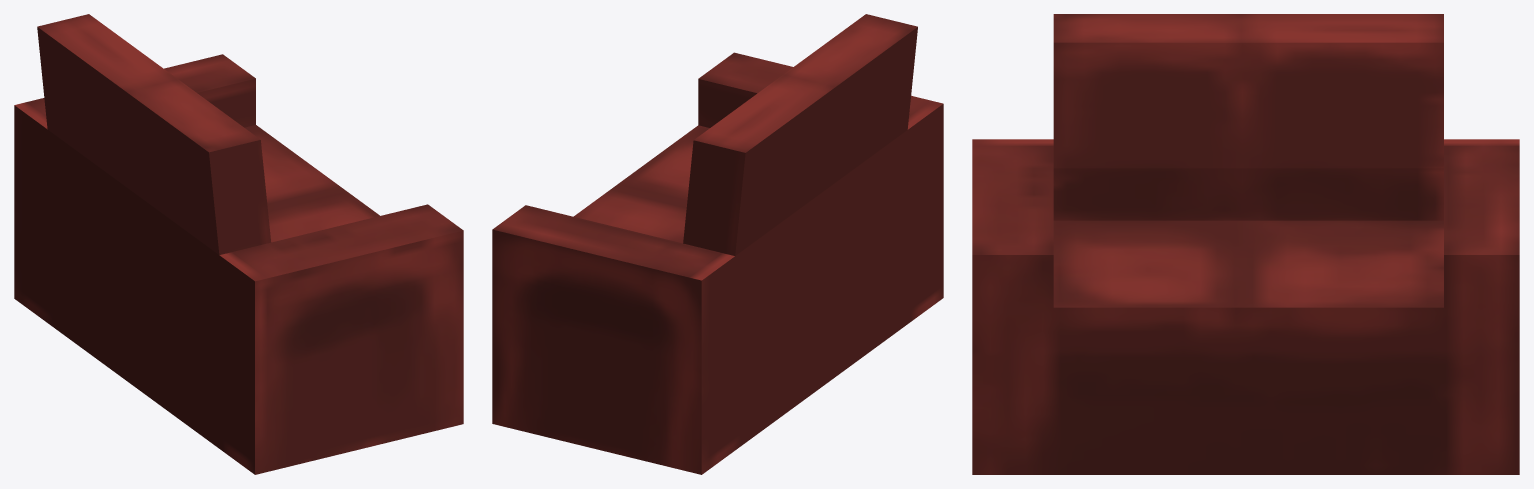
Rendered from soffa.fbx.
3 renders of one model, left to right at view 1: azimuth 30°, elevation 25°; view 2: azimuth 150°, elevation 25°; view 3: azimuth 270°, elevation 25°, orthographic. The views are drawn at different scales.
Visible parts, largest first — view 1: Cube; view 2: Cube; view 3: Cube.
Part boxes in pixels (x1,y1,x2,y2): Cube: (14, 14, 463, 474); Cube: (492, 14, 943, 474); Cube: (972, 14, 1519, 474).
Bounding box in the file's own units: 105 × 137 × 200.
1 material, 1 textured.
